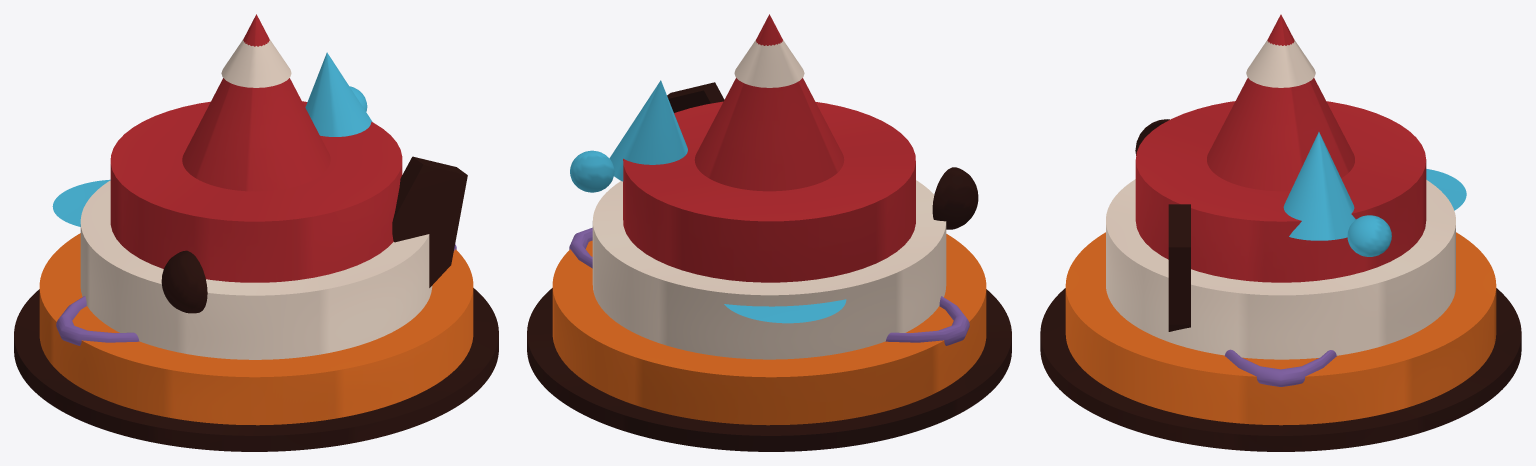
File: 0641_地貌图鉴_黄土高原.glb
3 renders of one model, left to right at view 1: azimuth 30°, elevation 25°; view 2: azimuth 150°, elevation 25°; view 3: azimuth 270°, elevation 25°, orthographic.
Parts seen in each view (by area): view 1: card_0641; view 2: card_0641; view 3: card_0641.
Part boxes in pixels (x1,y1,x2,y2): card_0641: (14,14,498,451); card_0641: (527,14,1011,451); card_0641: (1040,14,1521,451).
Size of the model in its own units: 1.31 by 1 by 1.3.
